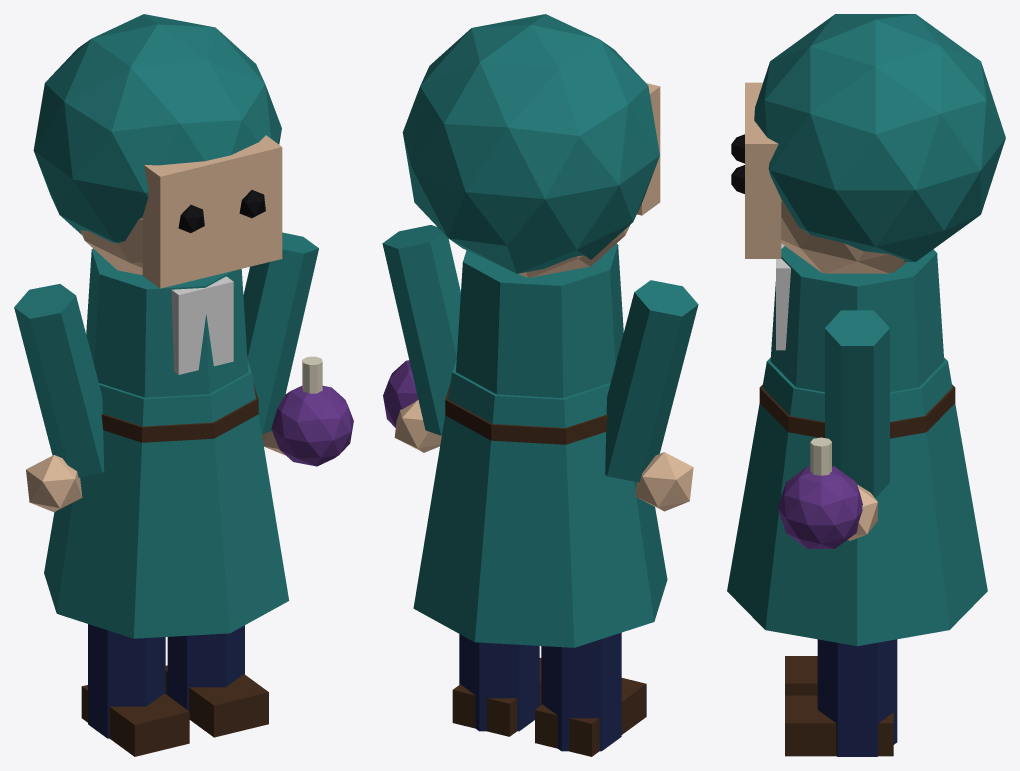
Rendered from SM_GZ_npc_alchemist.fbx.
The picture shows the model from 3 angles, left to right: view 1: azimuth 30°, elevation 25°; view 2: azimuth 150°, elevation 25°; view 3: azimuth 270°, elevation 25°; orthographic projection. The views are drawn at different scales.
Visible parts, largest first — view 1: SM_GZ_npc_alchemist; view 2: SM_GZ_npc_alchemist; view 3: SM_GZ_npc_alchemist.
Part boxes in pixels (x1,y1,x2,y2): SM_GZ_npc_alchemist: (14,14,353,756); SM_GZ_npc_alchemist: (382,14,698,756); SM_GZ_npc_alchemist: (727,14,1005,756).
Size of the model in its own units: 101 by 214 by 77.
